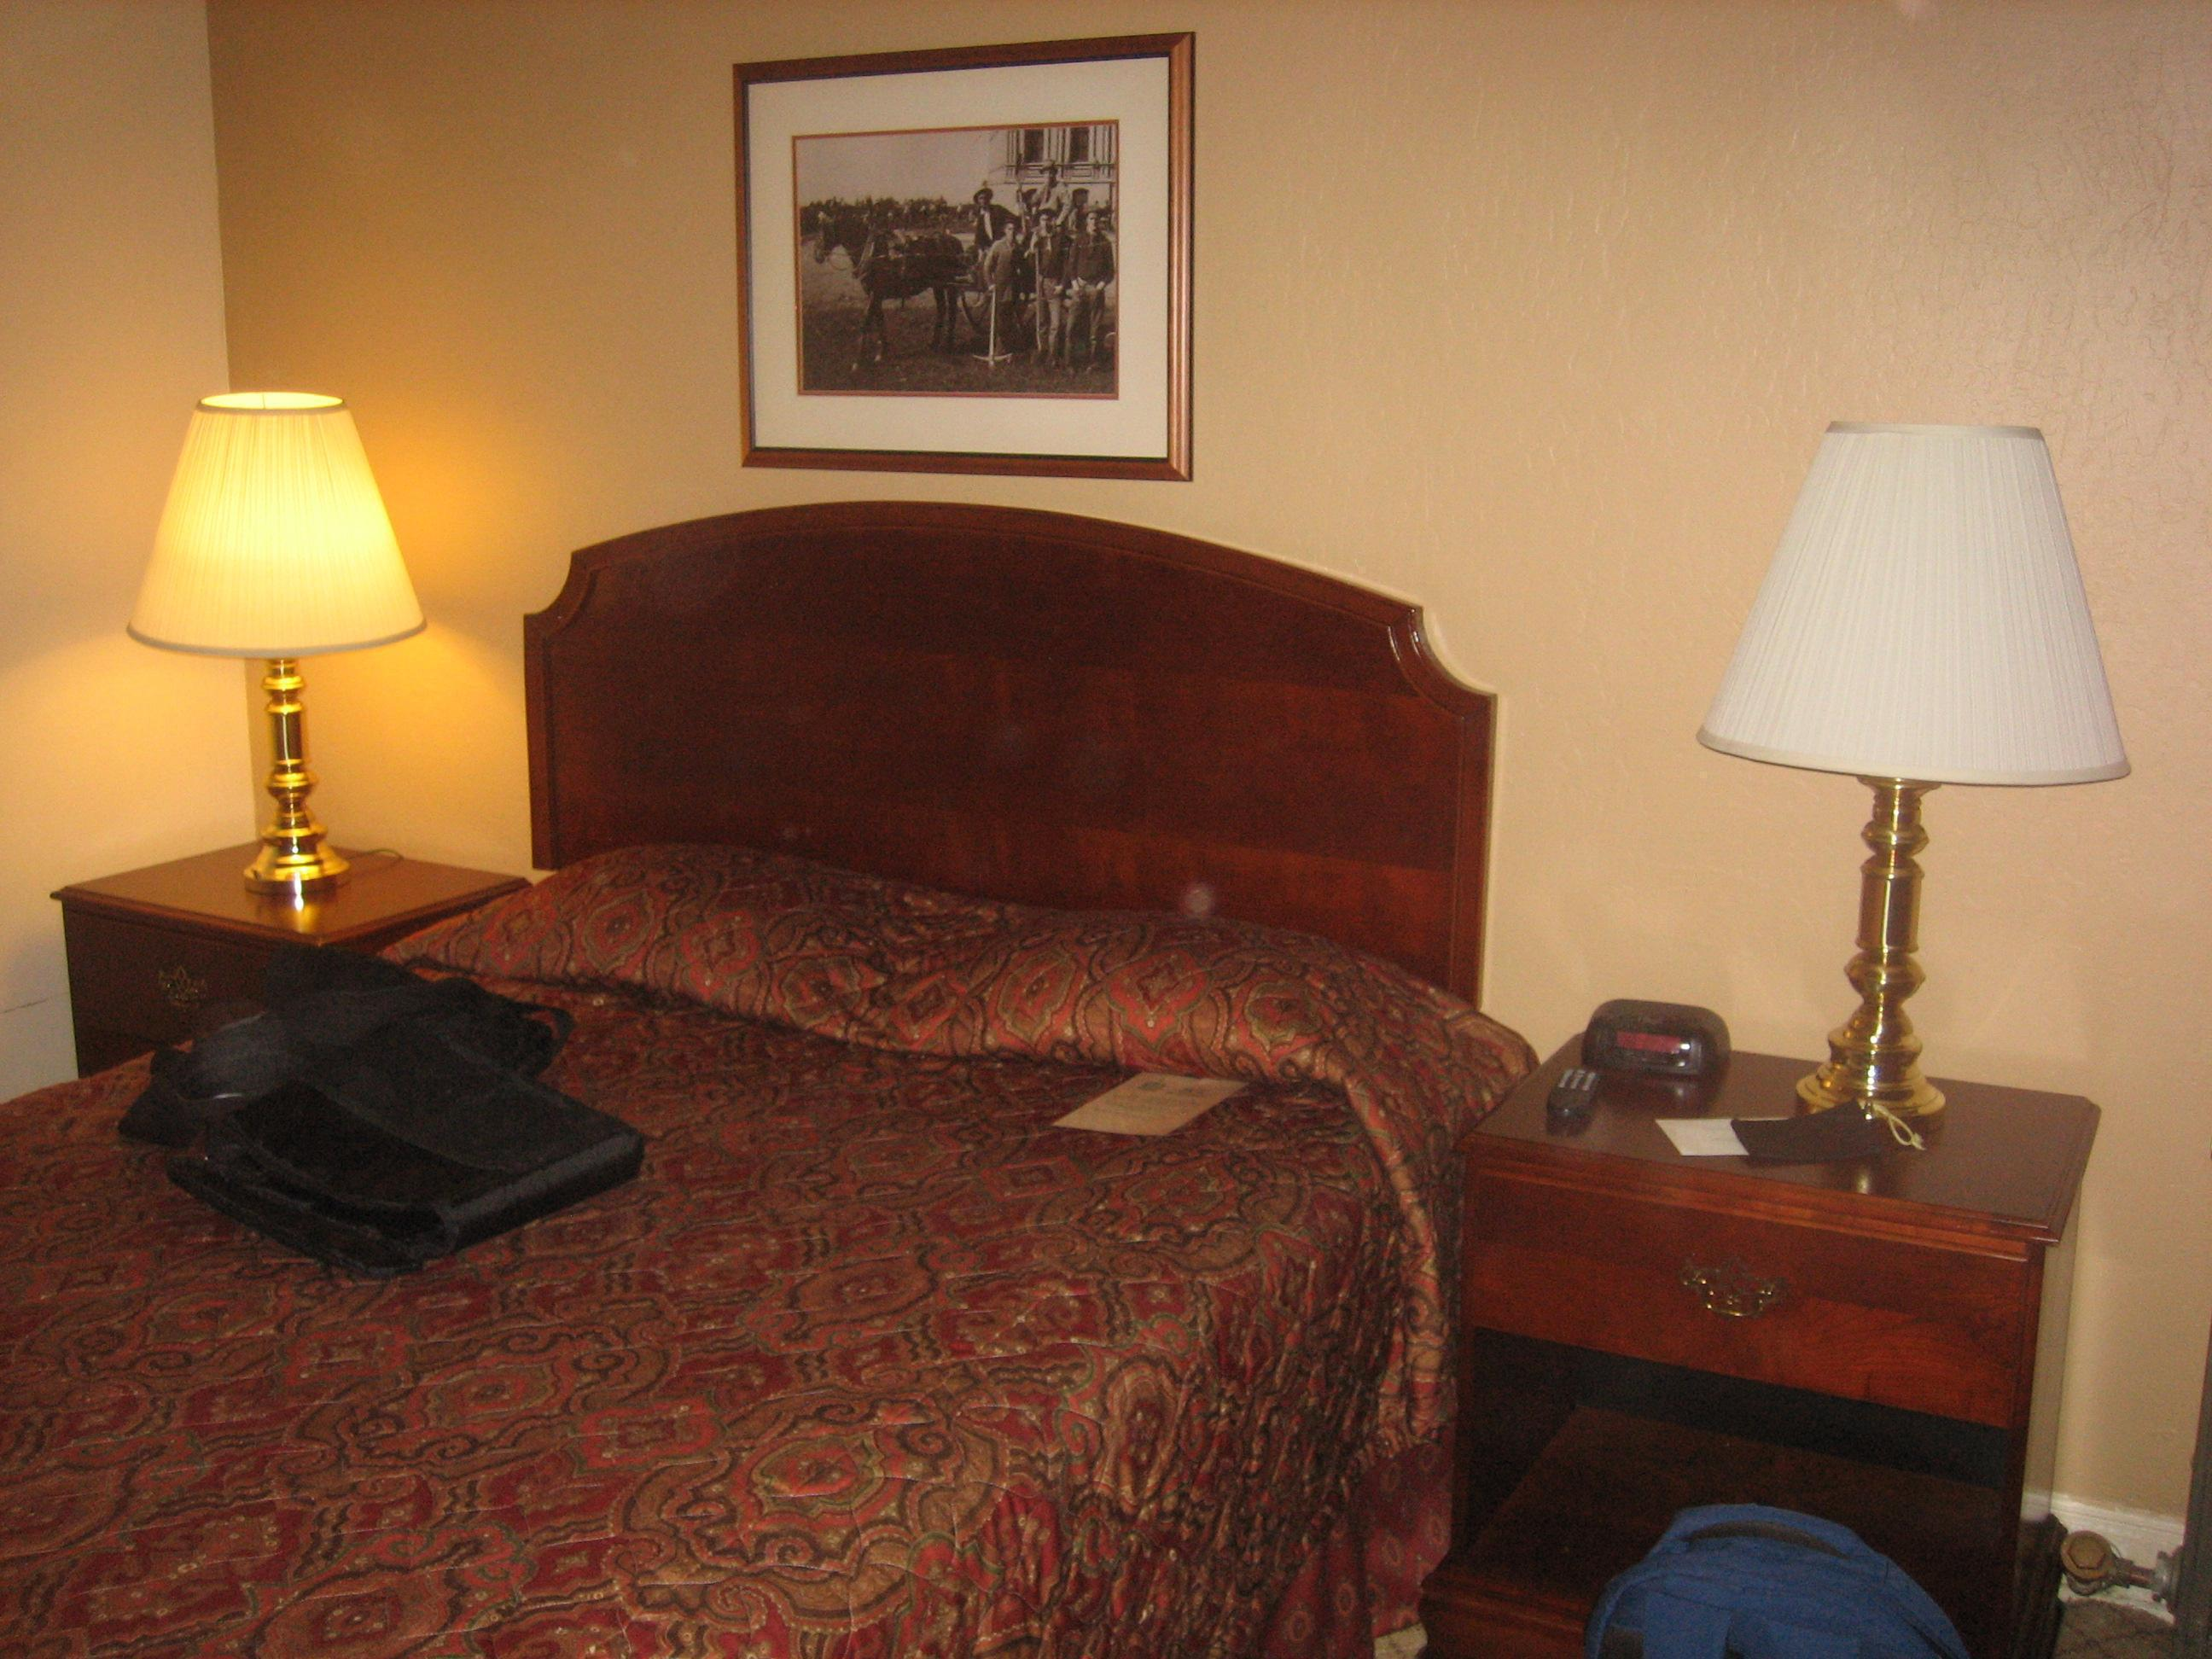Bote de Basura: (2, 532, 1482, 1657)
Otro Obstaculo: (1602, 1486, 1973, 1642)
